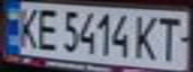1: (93, 10, 115, 56)
4: (109, 10, 136, 58), (75, 9, 96, 55)
5: (57, 7, 81, 54)
E: (33, 4, 63, 52)
K: (130, 12, 163, 61), (12, 3, 42, 51)
T: (151, 14, 187, 63)
